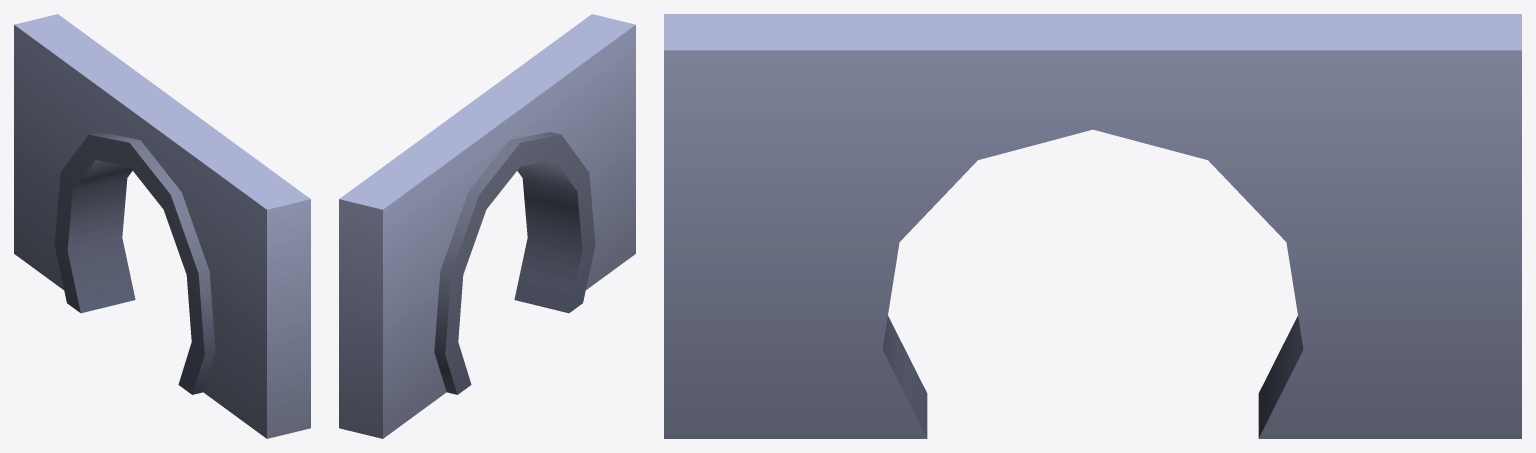
The model's file is wall-doorway-round.fbx.
3 views of the same model, side by side, from view 1: azimuth 30°, elevation 25°; view 2: azimuth 150°, elevation 25°; view 3: azimuth 270°, elevation 25° (orthographic). The views are drawn at different scales.
Parts seen in each view (by area): view 1: wall-doorway-round; view 2: wall-doorway-round; view 3: wall-doorway-round.
Boxes of the visible parts, box(x1,y1,x2,y2) form: wall-doorway-round: box(14, 14, 310, 438); wall-doorway-round: box(339, 14, 635, 438); wall-doorway-round: box(664, 14, 1521, 438).
Size of the model in its own units: 25 by 100 by 200.
